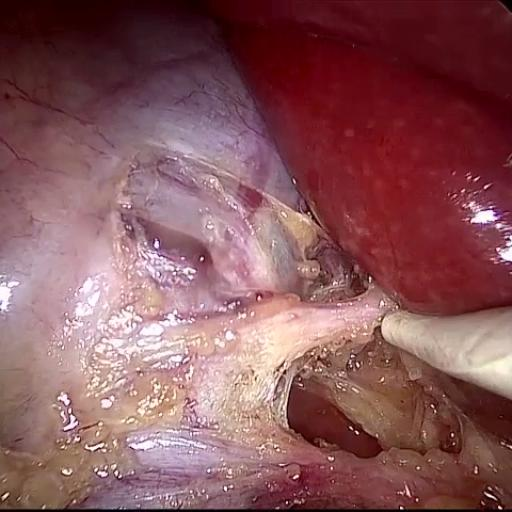Hook: (362, 255, 512, 408)
